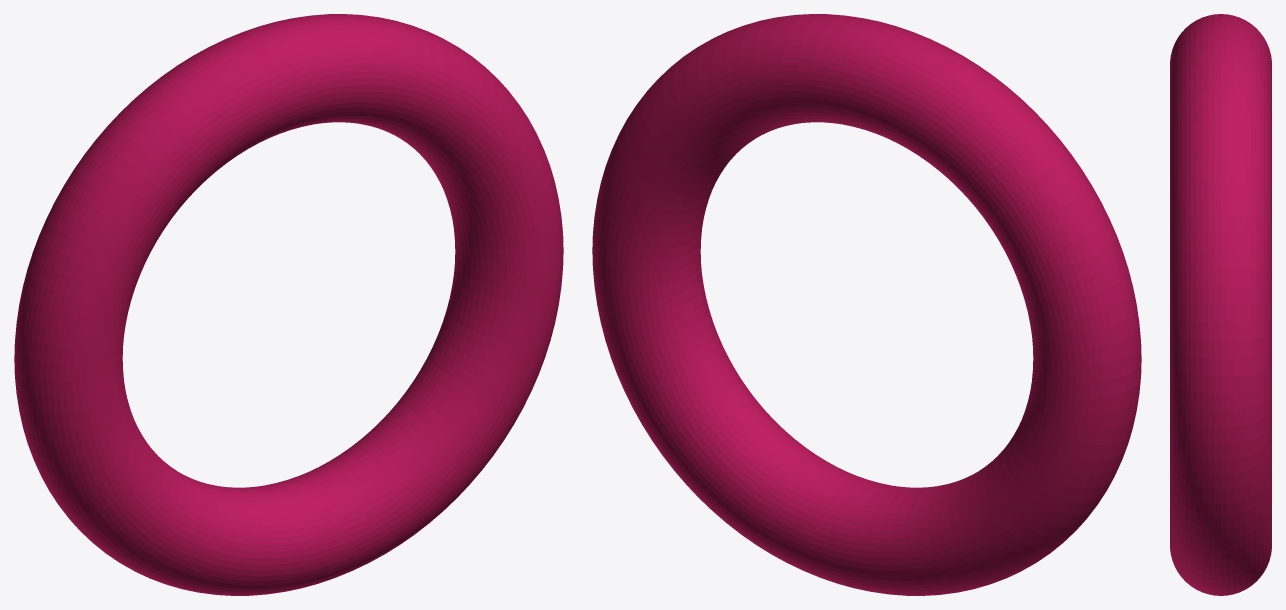
3 renders of one model, left to right at view 1: azimuth 30°, elevation 25°; view 2: azimuth 150°, elevation 25°; view 3: azimuth 270°, elevation 25°, orthographic. The views are drawn at different scales.
Visible parts, largest first — view 1: world; view 2: world; view 3: world.
Boxes of the visible parts, <box> form: world: <box>14,14,563,595</box>; world: <box>592,14,1141,595</box>; world: <box>1170,14,1271,595</box>.
Bounding box in the file's own units: 25.07 × 25.07 × 4.39.
